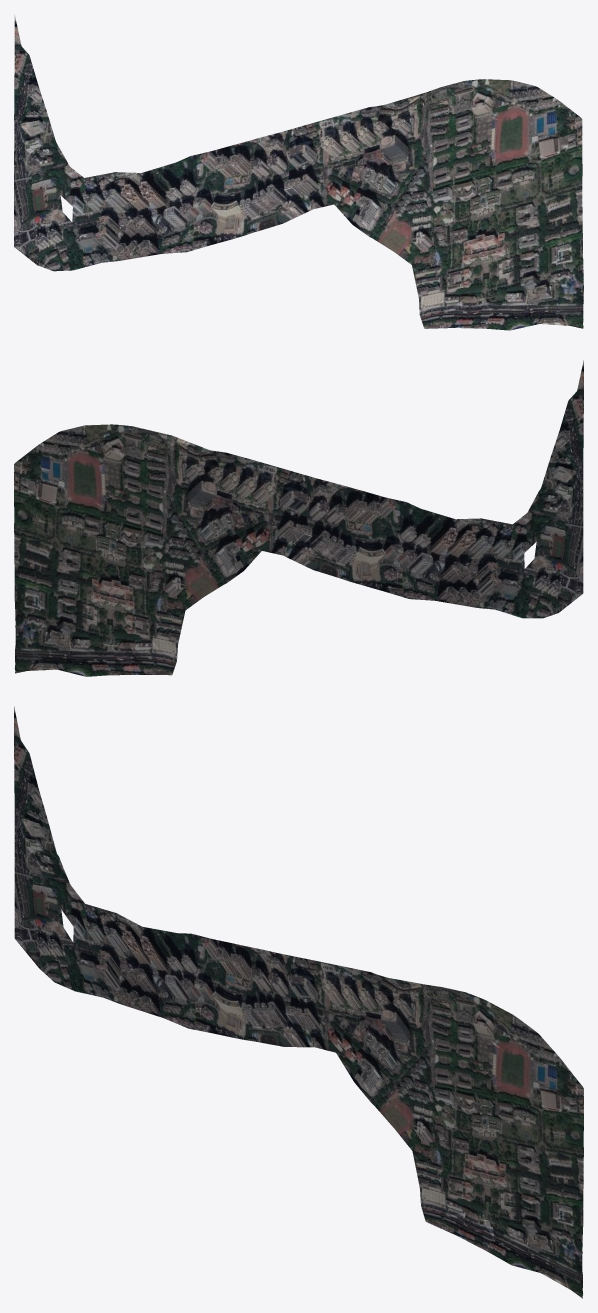
3 views of the same model, one above another, from view 1: azimuth 30°, elevation 25°; view 2: azimuth 150°, elevation 25°; view 3: azimuth 330°, elevation 25° (orthographic).
Visible parts, largest first — view 1: 0_1_2_0; view 2: 0_1_2_0; view 3: 0_1_2_0.
Part boxes in pixels (left/top/right/bottom): 0_1_2_0: left=14, top=15, right=583, bottom=330; 0_1_2_0: left=14, top=360, right=583, bottom=676; 0_1_2_0: left=14, top=706, right=583, bottom=1298.
Bounding box in the file's own units: 1945 × 1481 × 21.
1 material, 1 textured.
